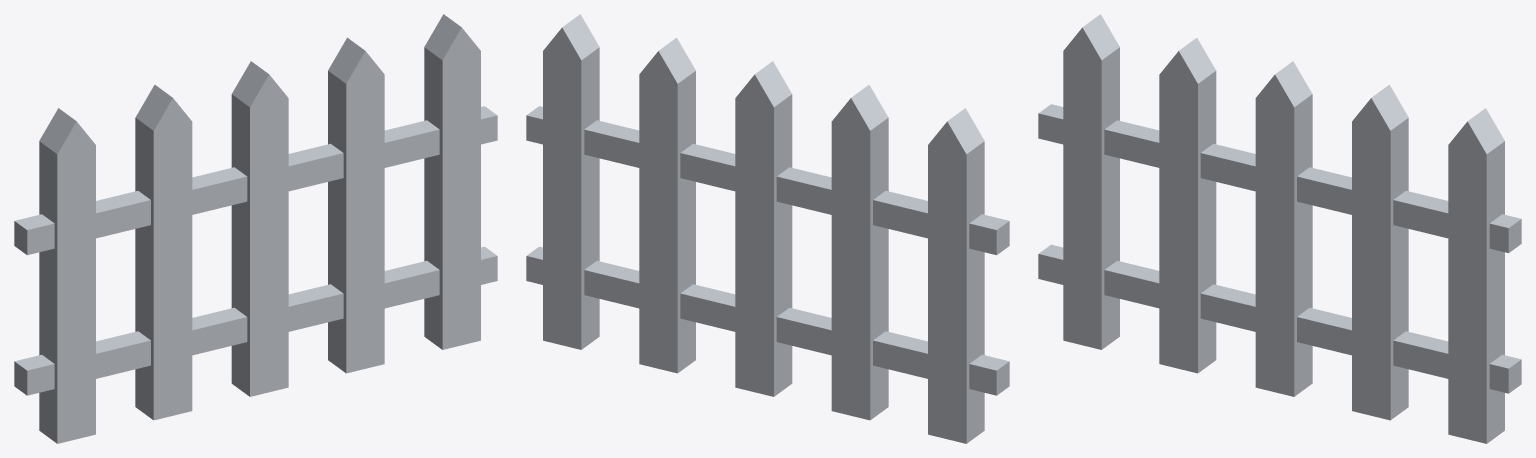
File: Building_Objects_Fence.fbx
The picture shows the model from 3 angles, left to right: view 1: azimuth 30°, elevation 25°; view 2: azimuth 150°, elevation 25°; view 3: azimuth 330°, elevation 25°; orthographic projection.
Visible parts, largest first — view 1: Building_Objects_Fence; view 2: Building_Objects_Fence; view 3: Building_Objects_Fence.
Boxes of the visible parts, <box> form: Building_Objects_Fence: <box>14,14,497,443</box>; Building_Objects_Fence: <box>526,14,1009,443</box>; Building_Objects_Fence: <box>1038,14,1521,443</box>.
Size of the model in its own units: 135 by 87.06 by 9.07.
